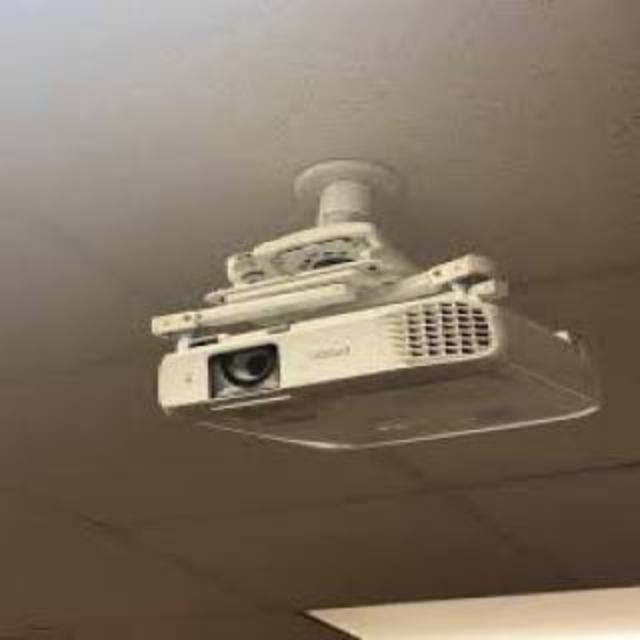Projector: (146, 226, 602, 454)
